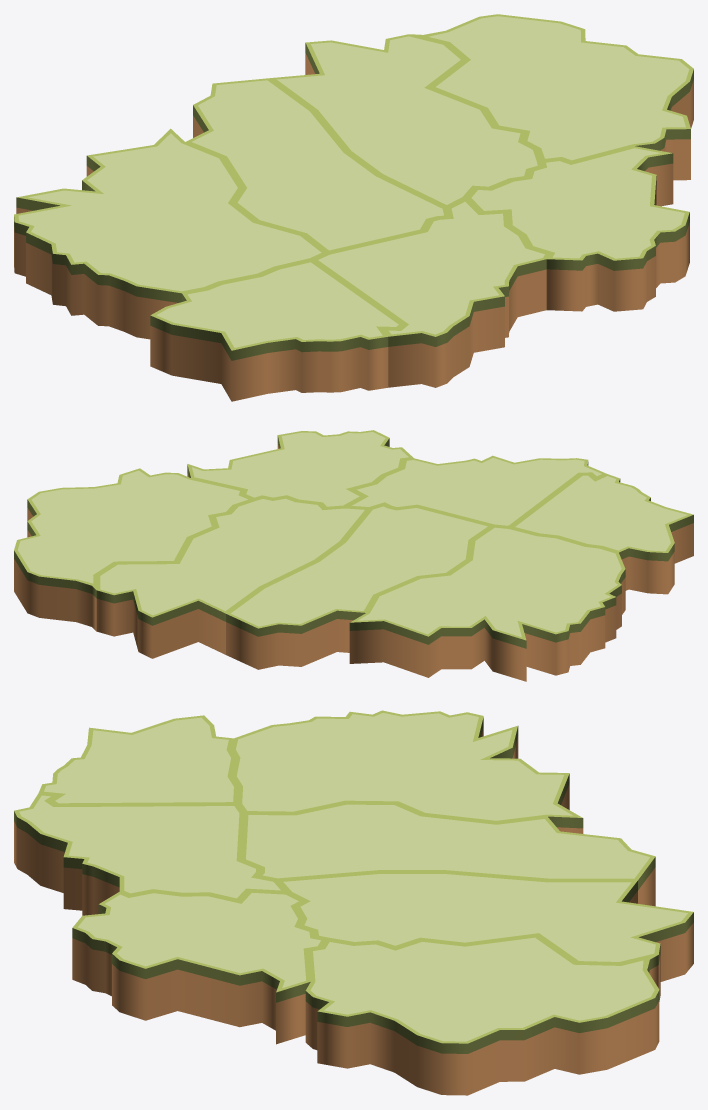
Rendered from Island3.fbx.
3 views of the same model, one above another, from view 1: azimuth 30°, elevation 25°; view 2: azimuth 150°, elevation 25°; view 3: azimuth 270°, elevation 25° (orthographic). The views are drawn at different scales.
Parts seen in each view (by area): view 1: Island3.001, Island3.007, Island3.002, Island3.005, Island3.004, Island3.006, Island3.003; view 2: Island3.001, Island3.005, Island3.007, Island3.003, Island3.002, Island3.004, Island3.006; view 3: Island3.007, Island3.001, Island3.006, Island3.005, Island3.003, Island3.004, Island3.002.
Part boxes in pixels (x1,y1,x2,y2): Island3.001: [14, 128, 326, 339]; Island3.007: [410, 14, 693, 180]; Island3.002: [150, 260, 403, 401]; Island3.005: [270, 34, 542, 207]; Island3.004: [312, 198, 549, 387]; Island3.006: [467, 146, 689, 311]; Island3.003: [185, 78, 448, 252]; Island3.001: [349, 526, 625, 681]; Island3.005: [96, 497, 369, 658]; Island3.007: [14, 468, 253, 631]; Island3.003: [226, 504, 492, 669]; Island3.002: [510, 474, 693, 594]; Island3.004: [345, 455, 606, 527]; Island3.006: [187, 430, 413, 508]; Island3.007: [305, 935, 659, 1095]; Island3.001: [231, 710, 583, 833]; Island3.006: [72, 890, 326, 1044]; Island3.005: [277, 872, 693, 1001]; Island3.003: [241, 802, 655, 906]; Island3.004: [14, 793, 287, 915]; Island3.002: [38, 715, 238, 805].
Bounding box in the file's own units: 344 × 25 × 297.
